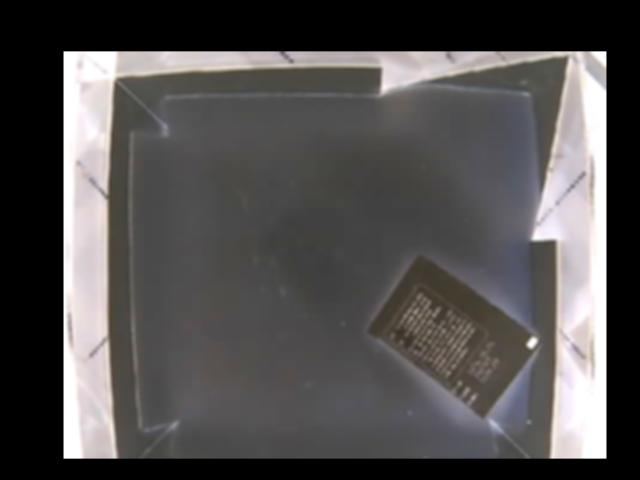Medicine: (368, 255, 540, 420)
